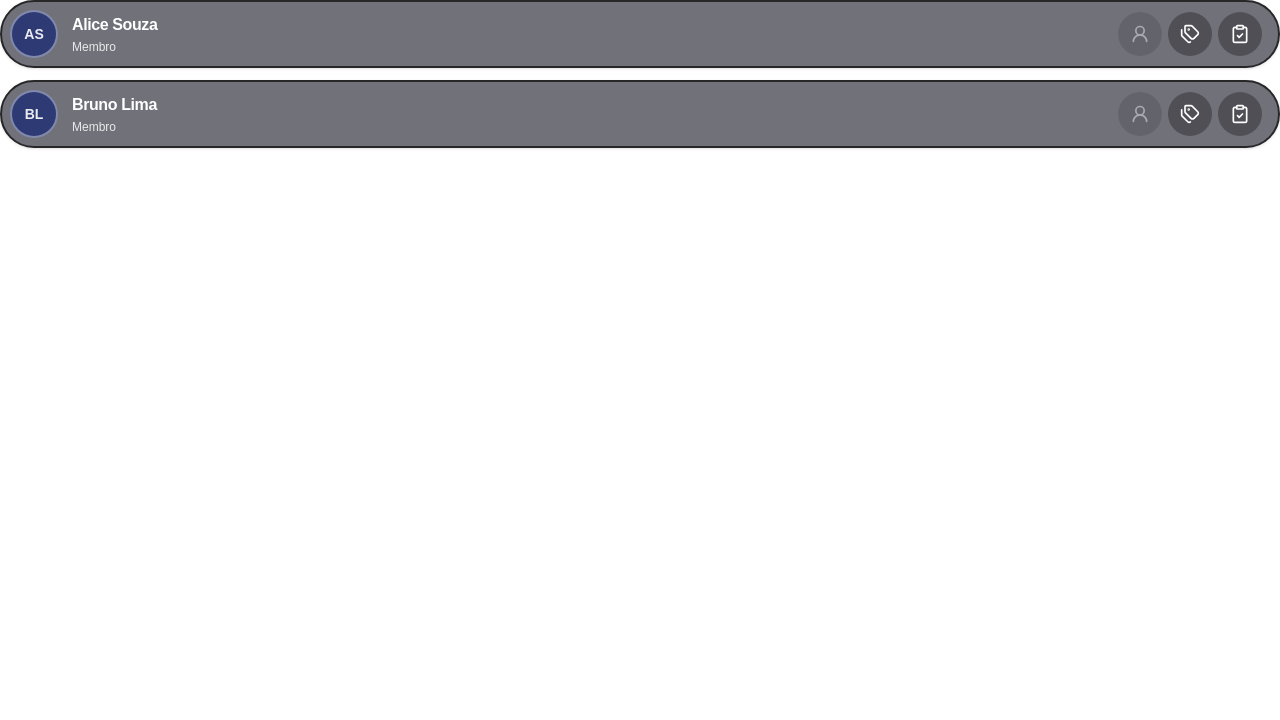
[US09] Integração do AttendancePanel › Deve enviar o PUT do status confirmado no modal e marcar o aluno com o horário devolvido pelo servidor
Click the button named "Presença de Alice Souza: não registrada" at (1240, 34), box left=1218, top=12, right=1262, bottom=56
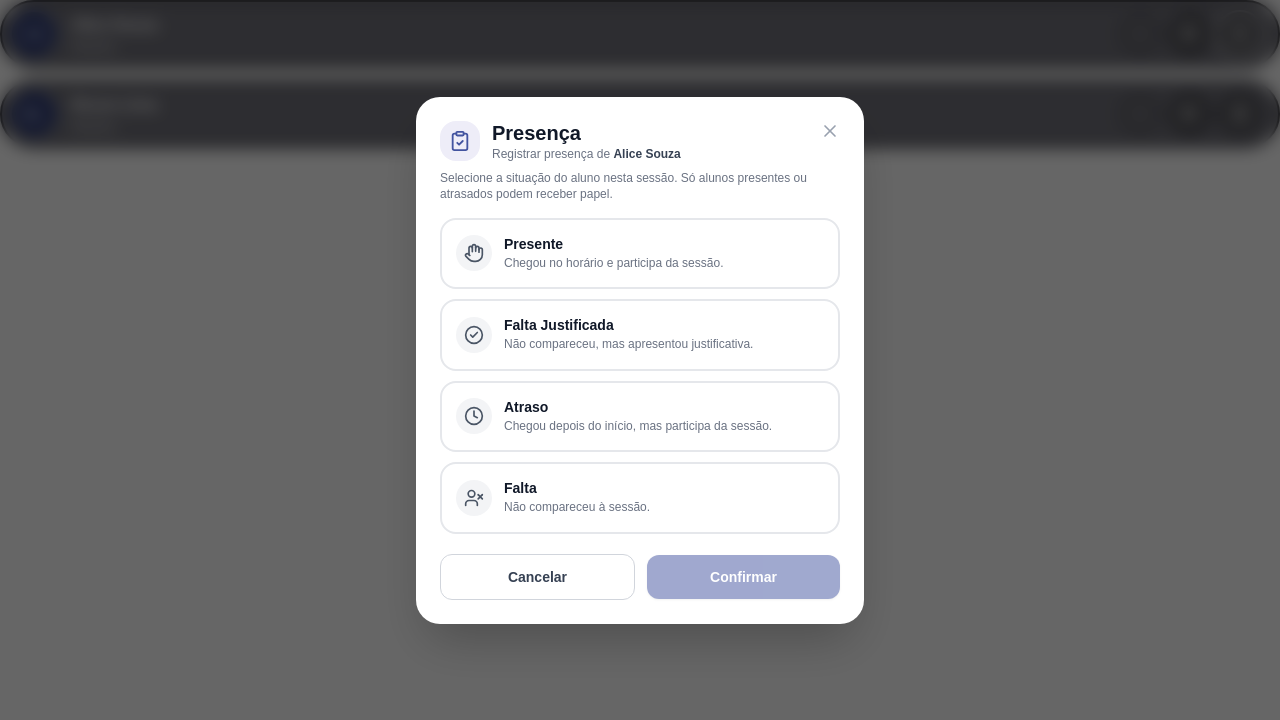
Click the button "Atraso" at (640, 416), box left=440, top=380, right=840, bottom=452
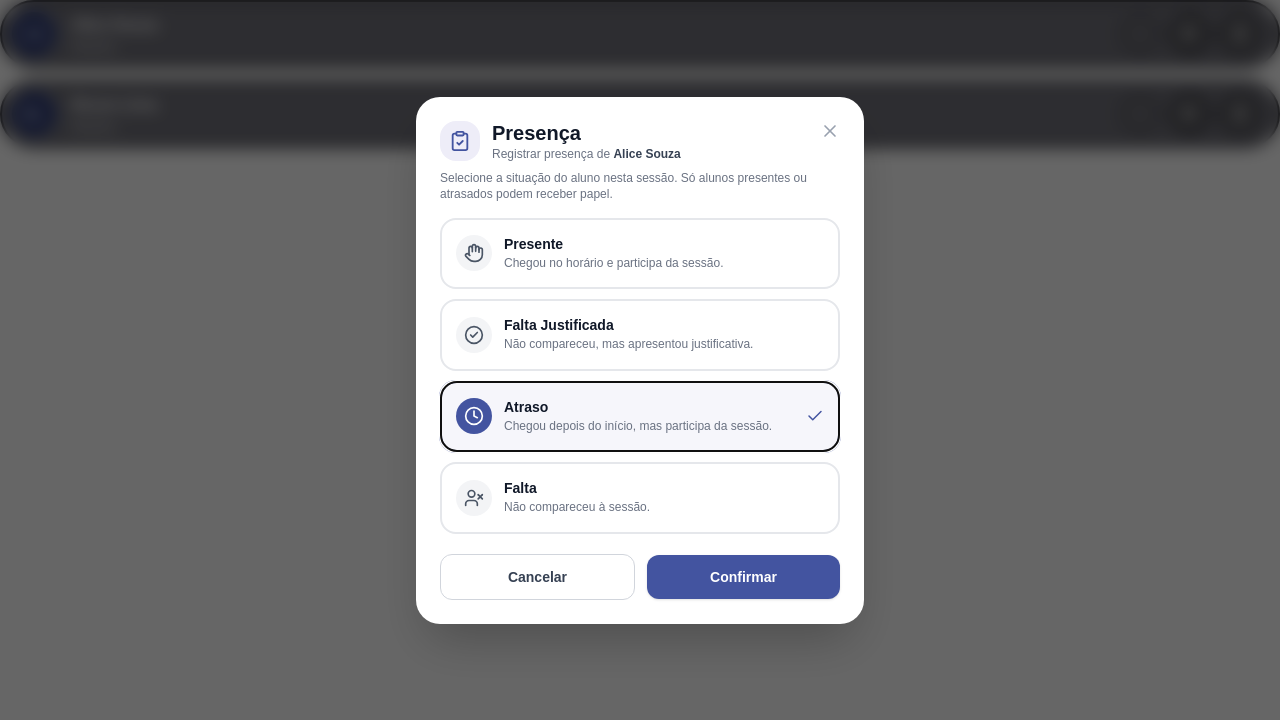
Click the button "Confirmar" at (744, 576), box left=647, top=554, right=840, bottom=598
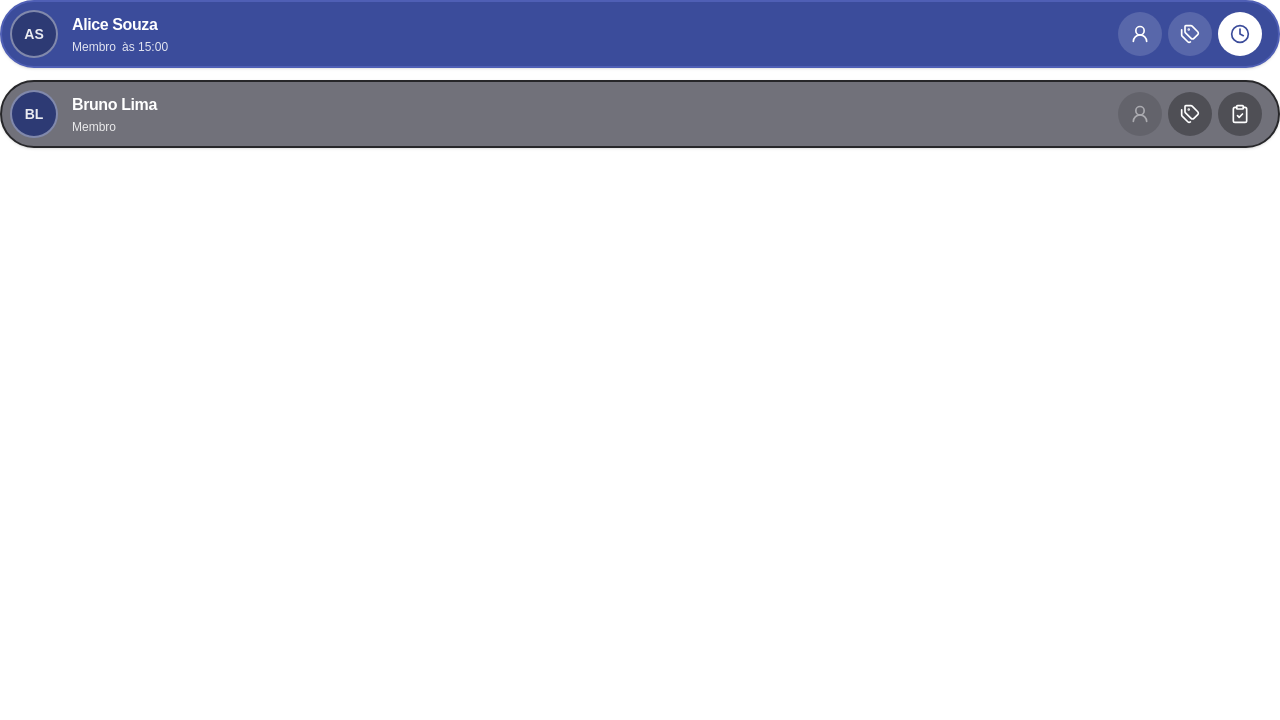
Expected: the text "às 15:00" is shown, left=122, top=39, right=168, bottom=55
